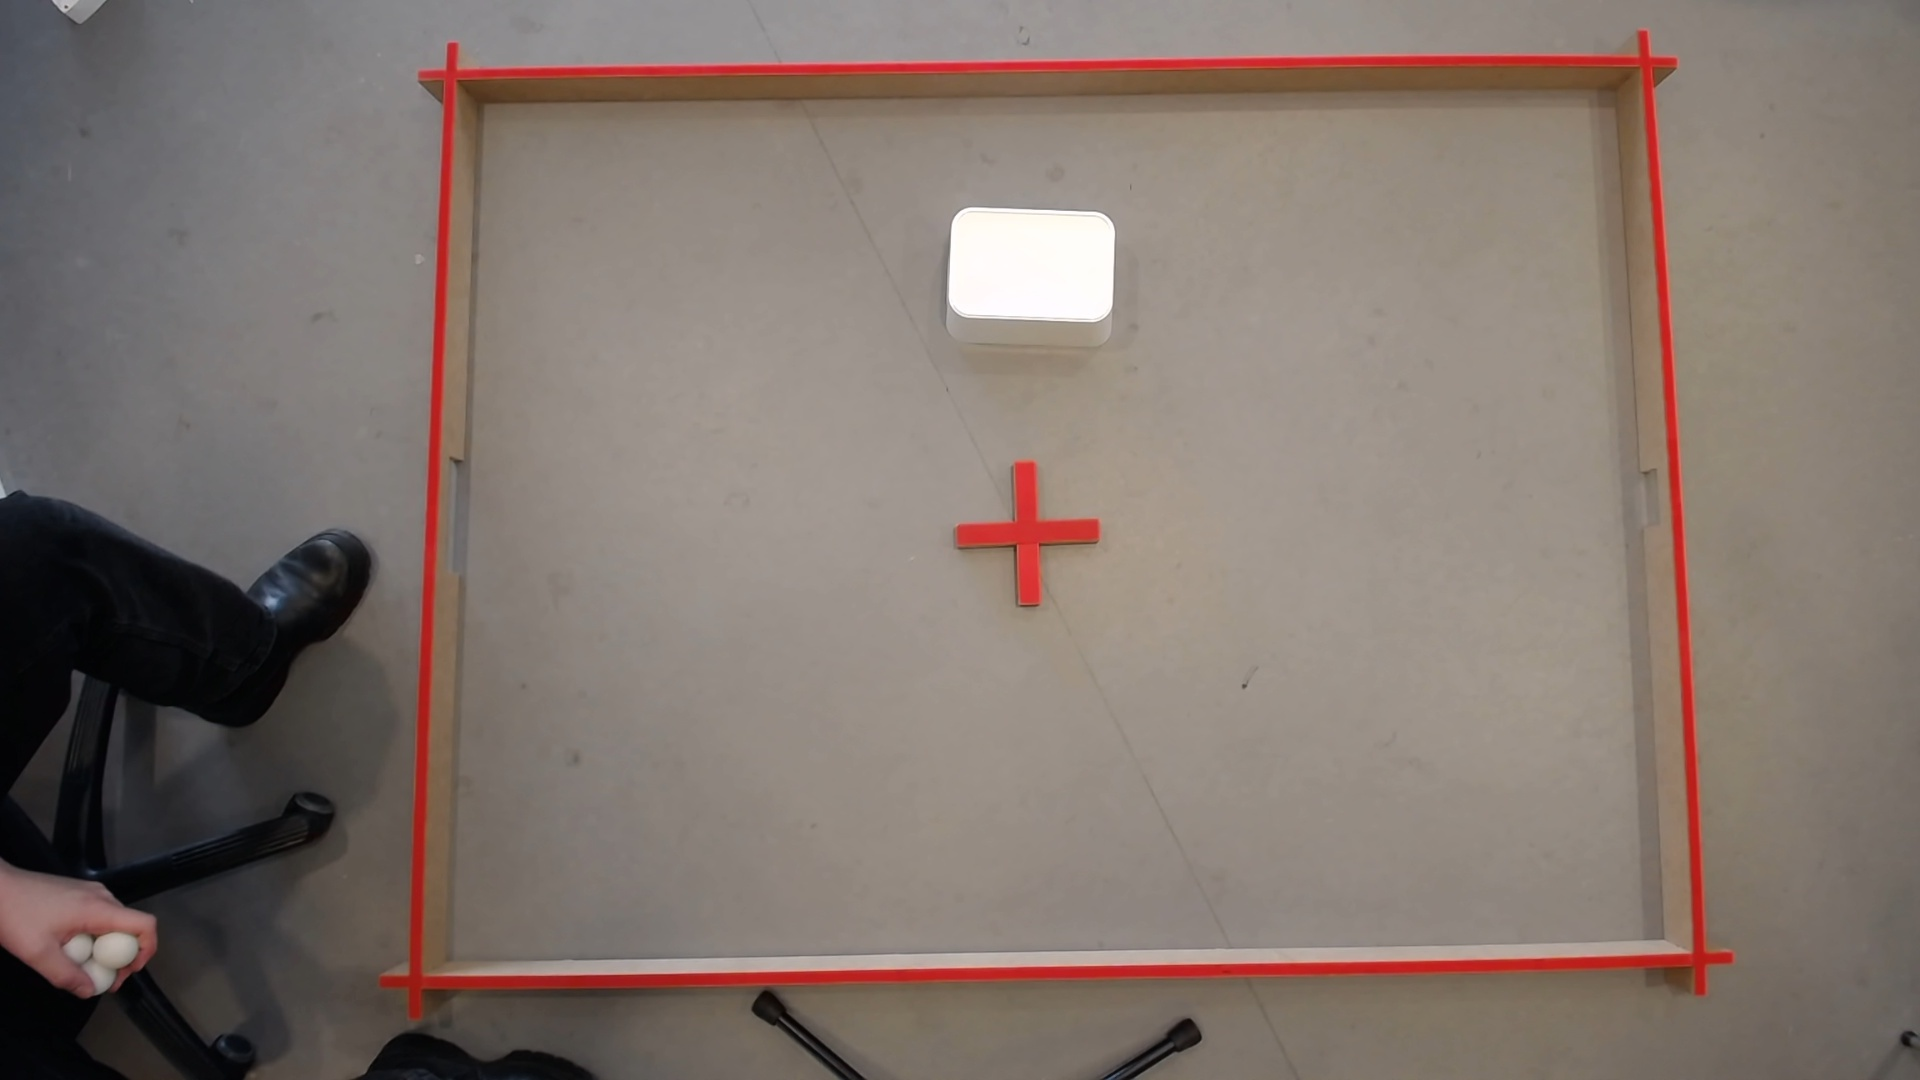car: (945, 204, 1116, 323)
